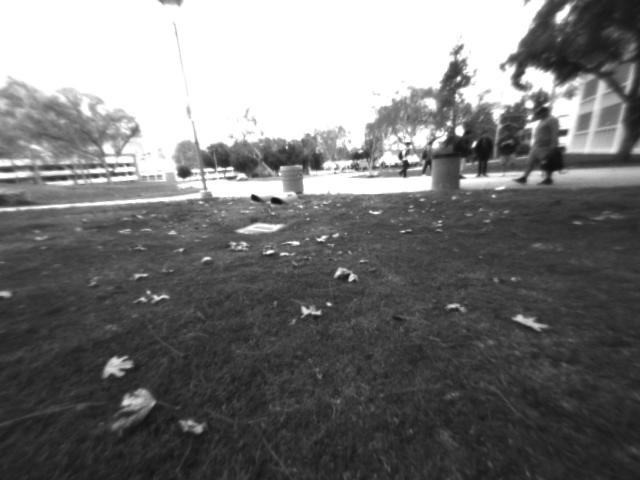trashcan: (432, 152, 461, 194), (280, 165, 302, 194)
